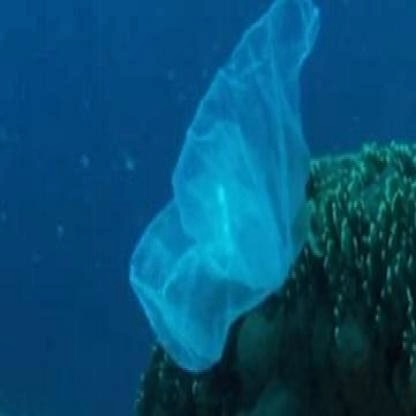plastic: (145, 2, 311, 345)
